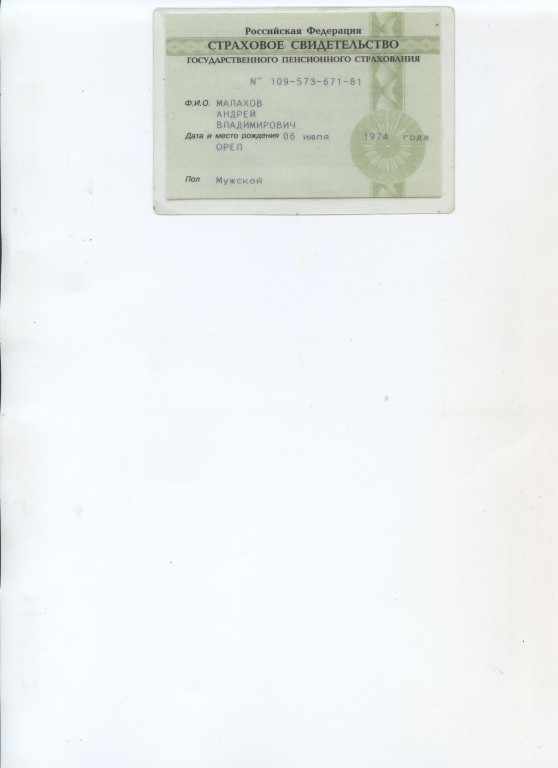text: (281, 130, 434, 143), (266, 73, 365, 88), (215, 119, 298, 130), (213, 174, 263, 187), (214, 97, 264, 108), (215, 108, 261, 119), (213, 140, 244, 154)
